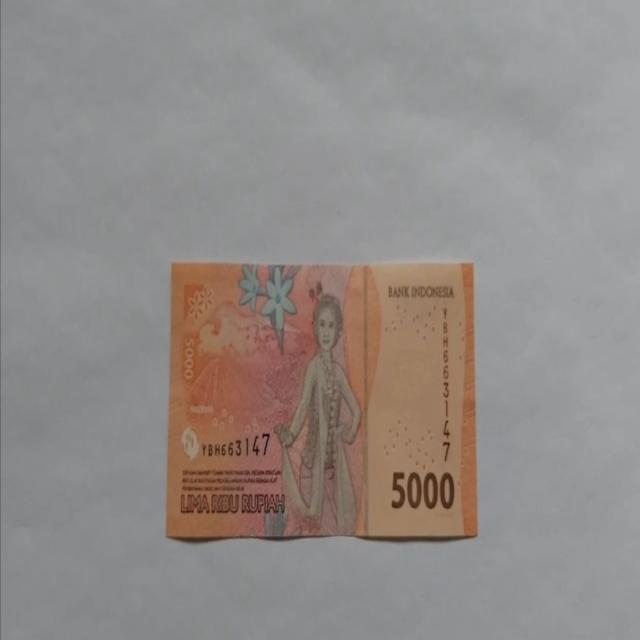lima ribu rupiah: (165, 258, 478, 542), (272, 292, 362, 536)
